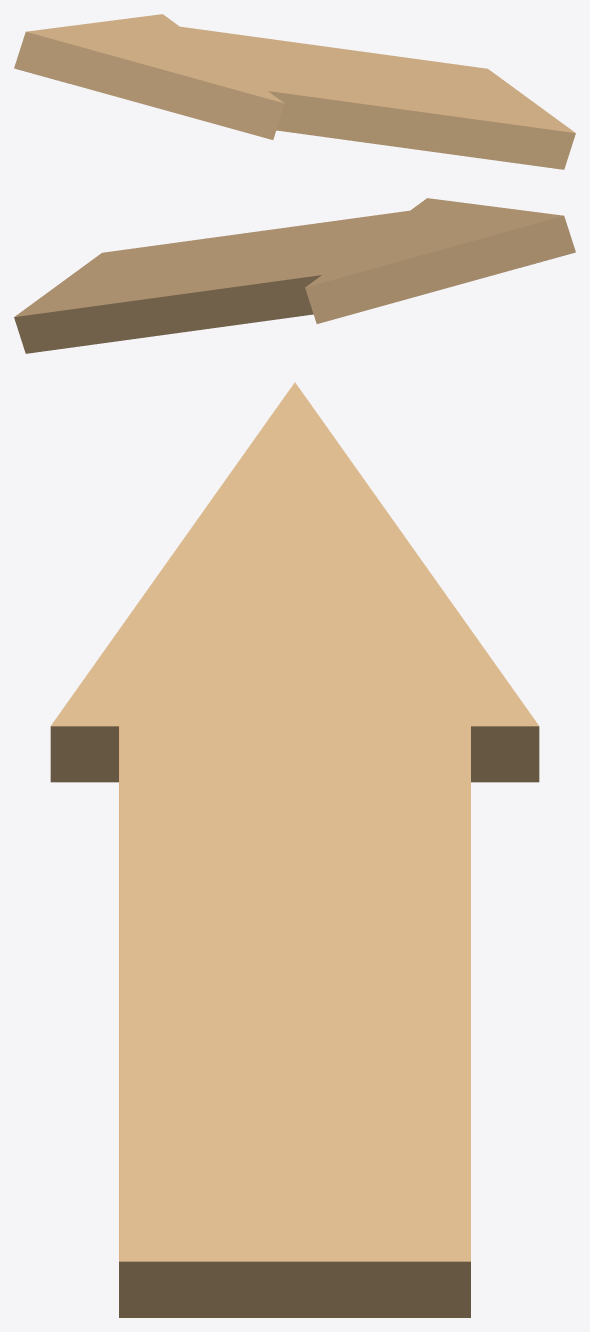
Rendered from arrowGuia.obj.
The picture shows the model from 3 angles, top to bottom: view 1: azimuth 30°, elevation 25°; view 2: azimuth 150°, elevation 25°; view 3: azimuth 270°, elevation 25°; orthographic projection. The views are drawn at different scales.
Parts seen in each view (by area): view 1: ArrowTriangular; view 2: ArrowTriangular; view 3: ArrowTriangular.
Part boxes in pixels (<box>): ArrowTriangular: <box>14,14,575,169</box>; ArrowTriangular: <box>14,198,575,353</box>; ArrowTriangular: <box>50,382,539,1317</box>.
Size of the model in its own units: 3.83 by 1.6 by 1.57.
